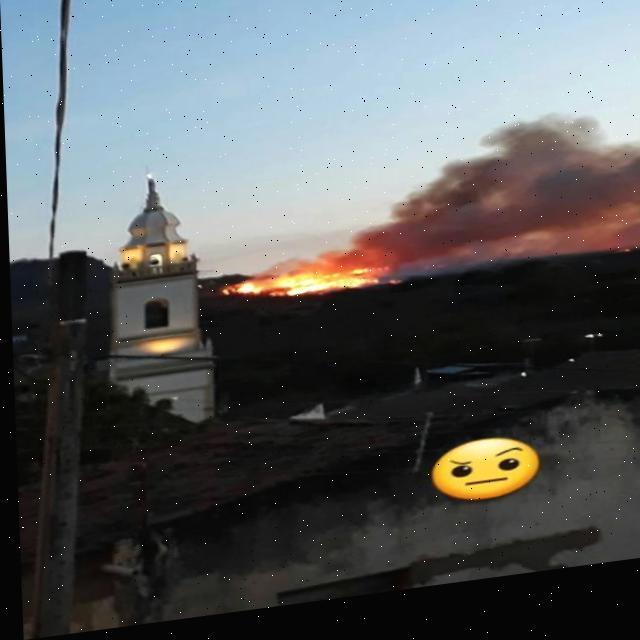Fire: (219, 268, 390, 314)
